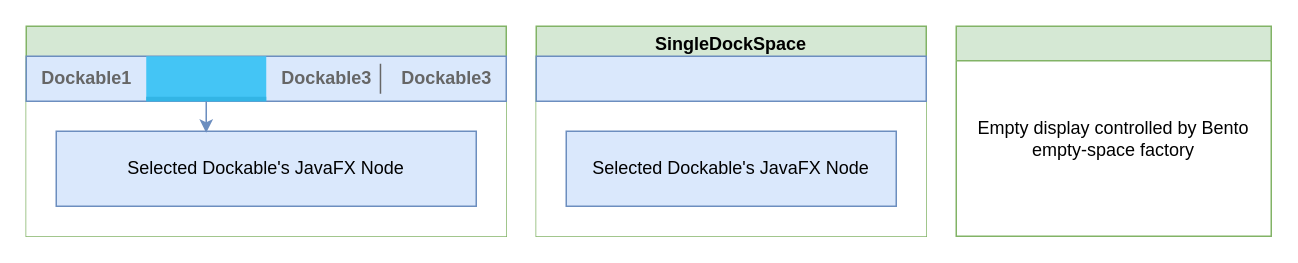
The diagram is 1298 pixels wide and 263 high, and some of its shapes have lost their labels. The shapes that lost their labels are listed below. From the top down, each one's box as (x1, y1, x2, y2) in pixels, then its label:
(146, 56, 266, 100): Dockable2
(535, 55, 926, 101): Dockable
(25, 25, 506, 236): TabbedDockSpace
(955, 25, 1271, 236): EmptyDockSpace
